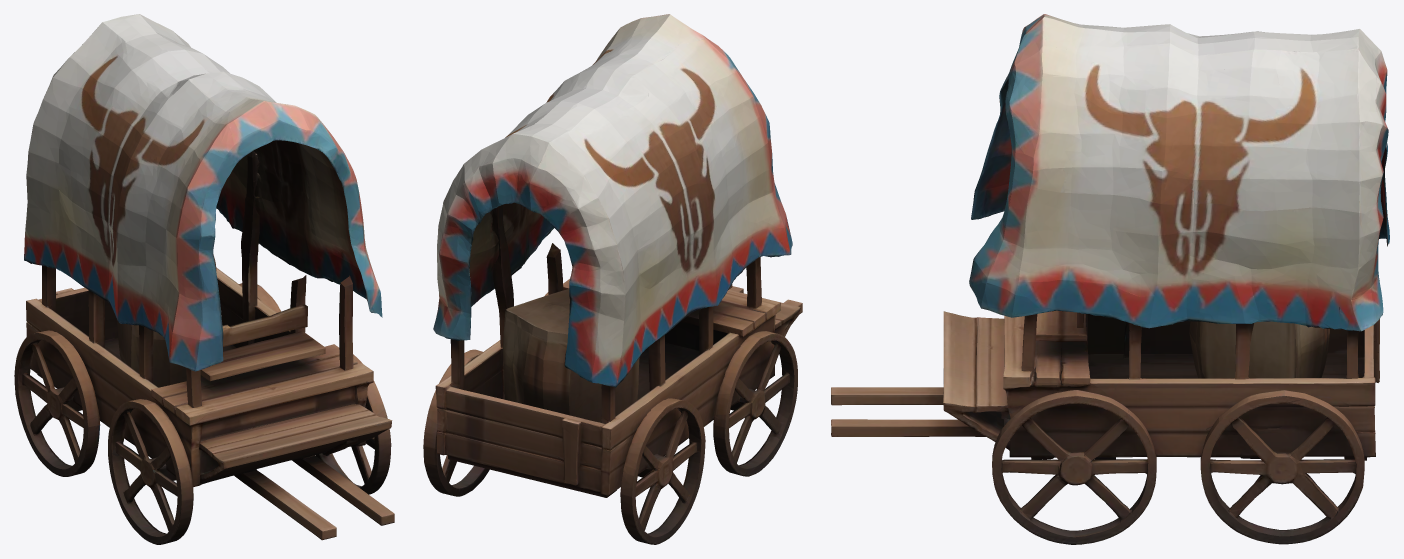
Rendered from nano_t01.glb.
The picture shows the model from 3 angles, left to right: view 1: azimuth 30°, elevation 25°; view 2: azimuth 150°, elevation 25°; view 3: azimuth 270°, elevation 25°; orthographic projection. The views are drawn at different scales.
Parts seen in each view (by area): view 1: geometry_0; view 2: geometry_0; view 3: geometry_0.
Part boxes in pixels (box(x1,y1,x2,y2)): geometry_0: box(14, 14, 394, 544); geometry_0: box(423, 14, 802, 544); geometry_0: box(831, 14, 1389, 544).
Size of the model in its own units: 0.9749 by 1.86 by 2.
1 material, 1 textured.
